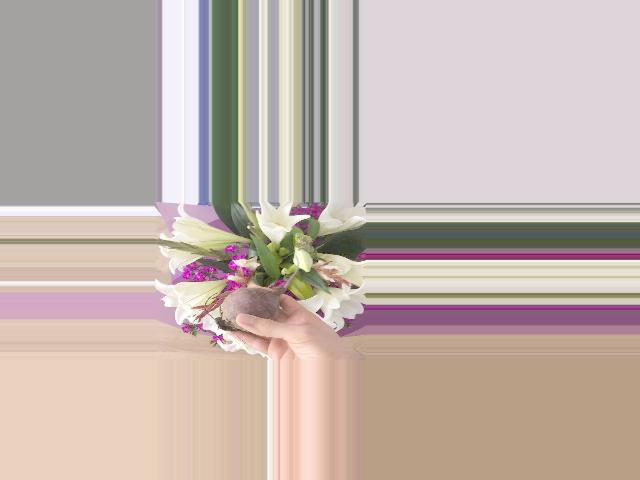beet: (204, 256, 298, 332)
